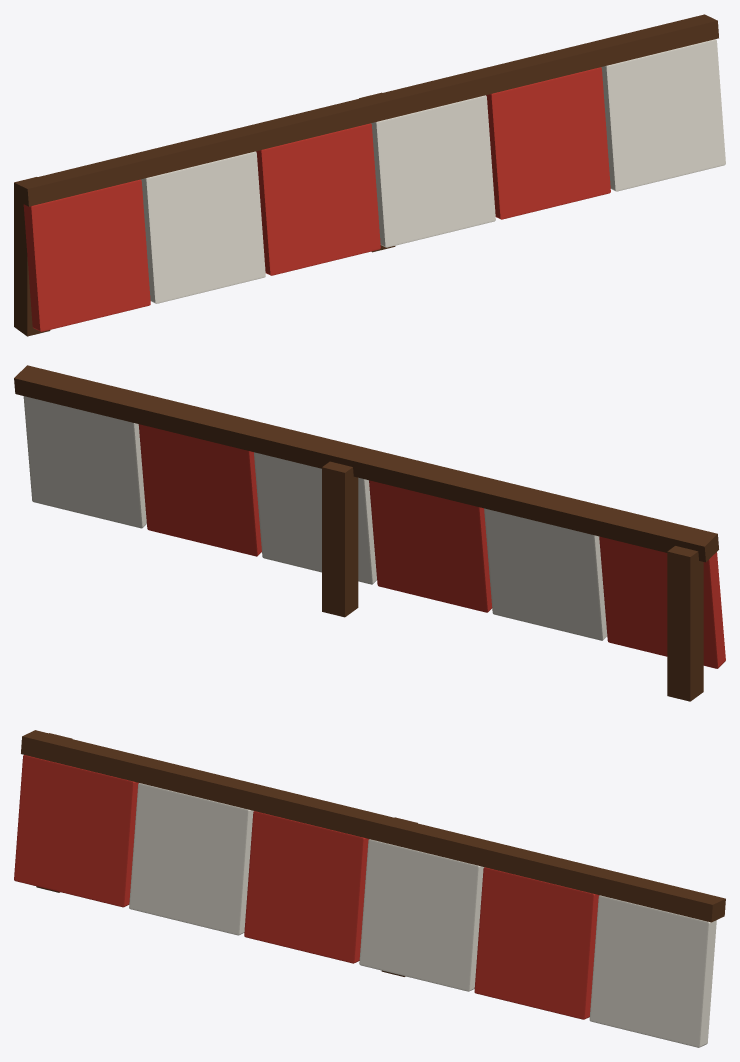
The model's file is barrier.glb.
3 views of the same model, one above another, from view 1: azimuth 30°, elevation 25°; view 2: azimuth 150°, elevation 25°; view 3: azimuth 330°, elevation 25° (orthographic).
Parts seen in each view (by area): view 1: barrier; view 2: barrier; view 3: barrier.
Boxes of the visible parts, <box> form: barrier: <box>14,14,725,336</box>; barrier: <box>14,365,725,701</box>; barrier: <box>14,730,725,1047</box>.
Bounding box in the file's own units: 3 × 0.6416 × 0.234.
